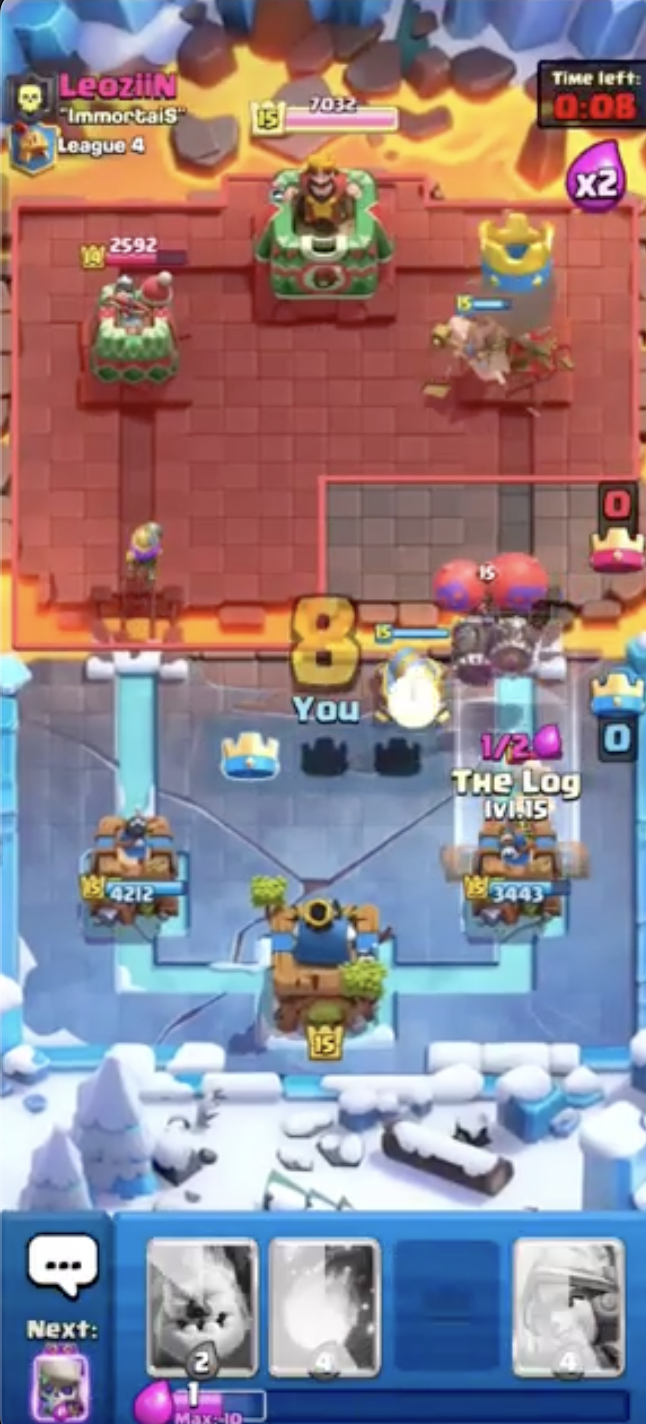skeleton-barrel: (434, 542, 556, 686)
